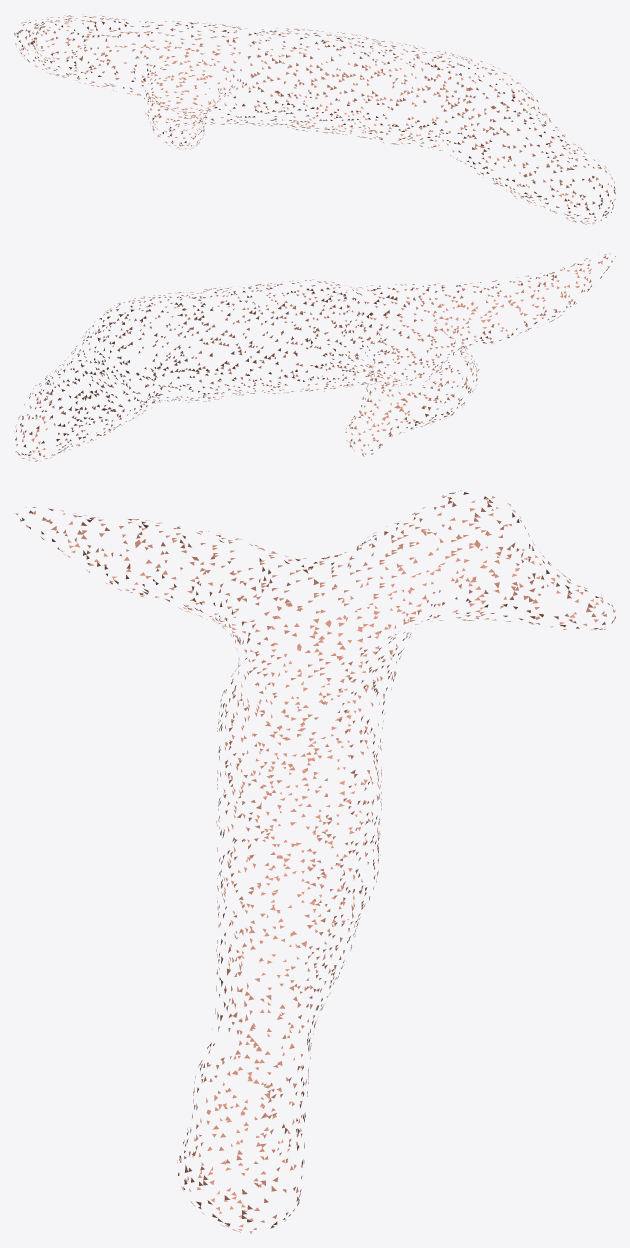
The model's file is morph_003.glb.
3 views of the same model, one above another, from view 1: azimuth 30°, elevation 25°; view 2: azimuth 150°, elevation 25°; view 3: azimuth 270°, elevation 25° (orthographic). The views are drawn at different scales.
Size of the model in its own units: 109 by 54.32 by 75.57.
